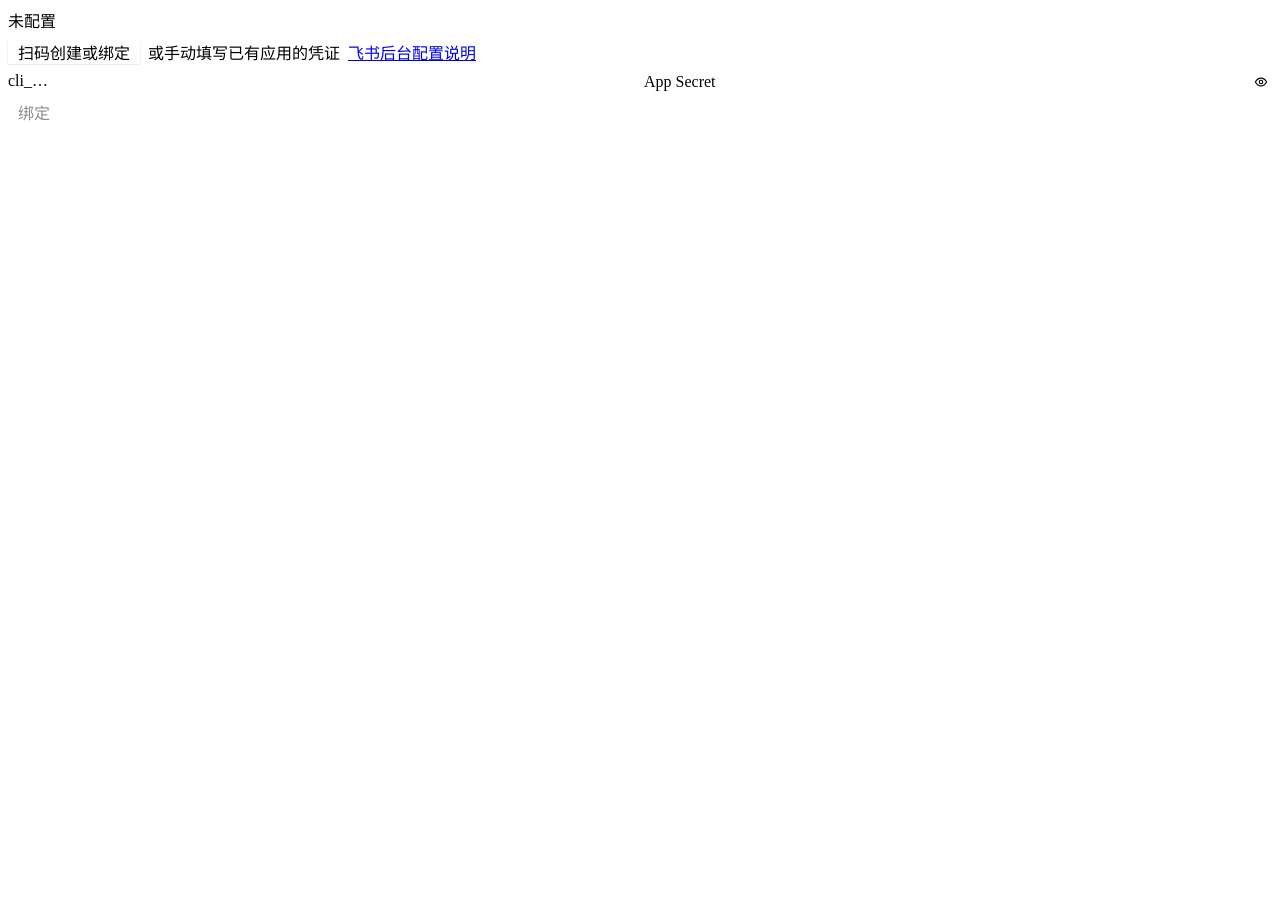
Scenario: 扫码创建或绑定 › keeps the dialog open with the manual step when automatic configuration failed
Click the button "扫码创建或绑定".
click(74, 52)  # box x1=8 y1=40 x2=140 y2=64
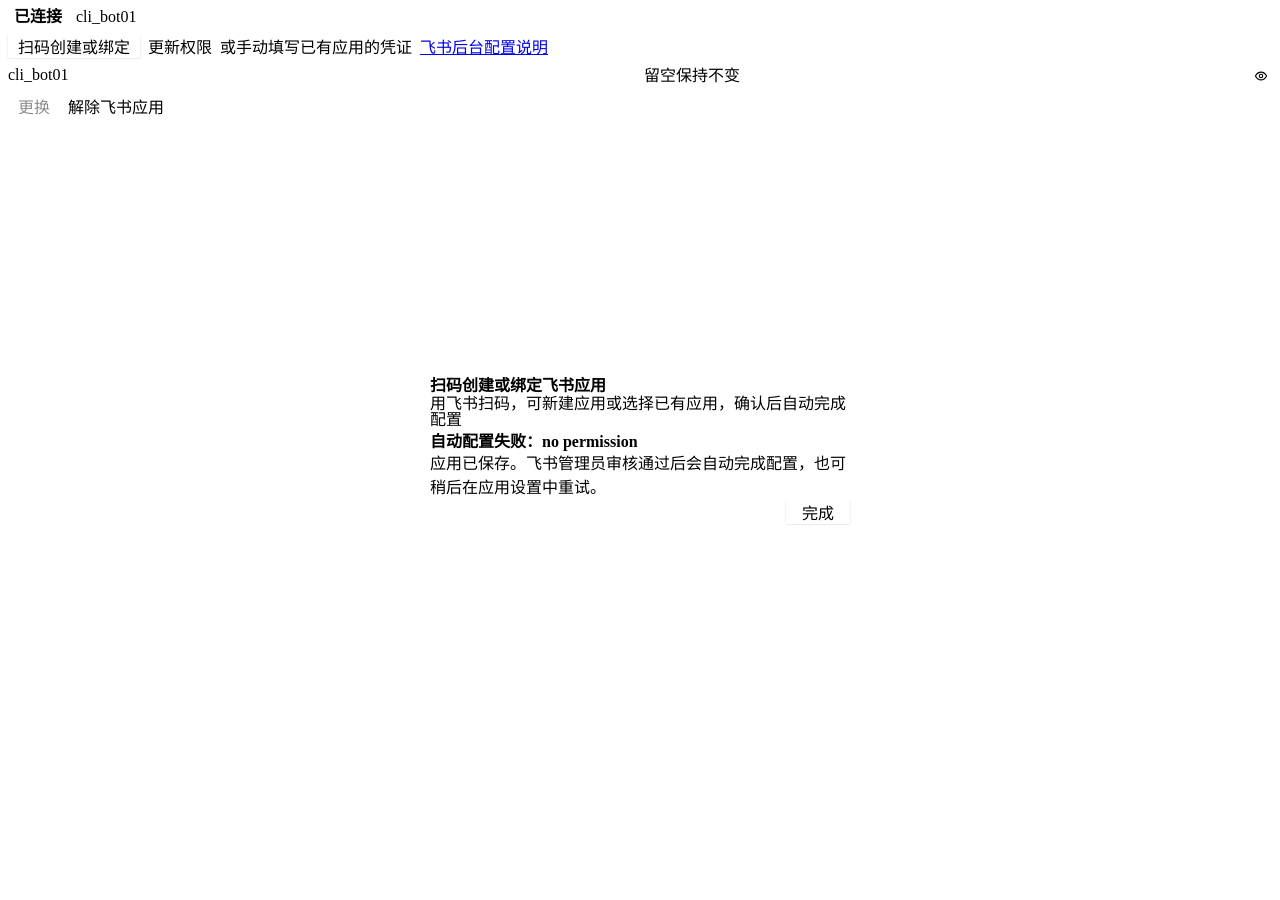
Now the heading "自动配置失败：no permission" is shown, box x1=430 y1=433 x2=638 y2=450
Now the text "应用已保存。飞书管理员审核通过后会自动完成配置，也可稍后在应用设置中重试。" is shown, box x1=430 y1=452 x2=850 y2=500
